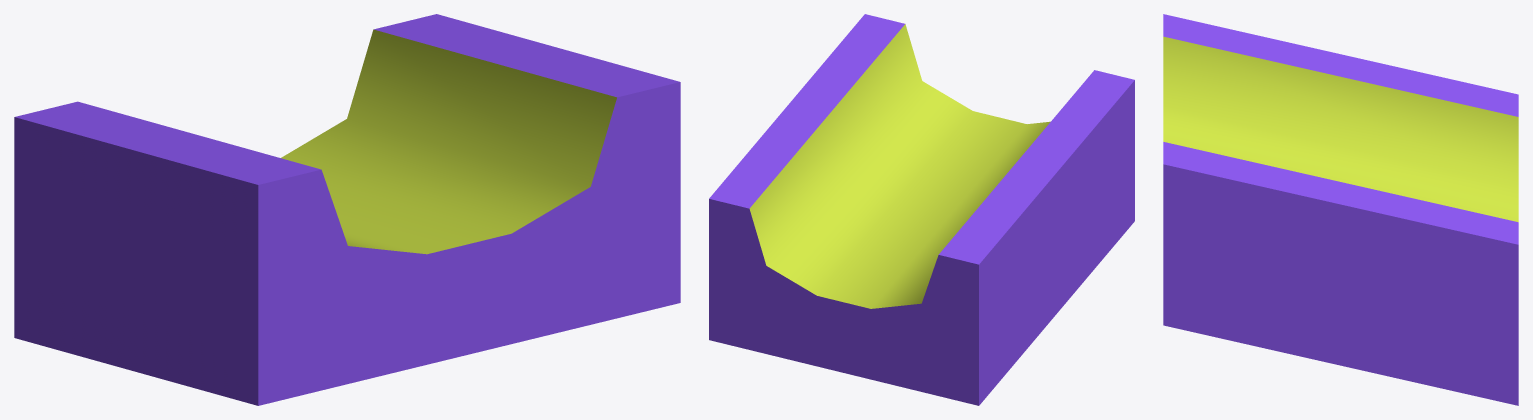
File: slant_A.fbx
The picture shows the model from 3 angles, left to right: view 1: azimuth 30°, elevation 25°; view 2: azimuth 150°, elevation 25°; view 3: azimuth 270°, elevation 25°; orthographic projection. The views are drawn at different scales.
Visible parts, largest first — view 1: slant_A; view 2: slant_A; view 3: slant_A.
Boxes of the visible parts, x1,y1,x2,y2 form: slant_A: (14,14,680,405); slant_A: (709,14,1134,405); slant_A: (1163,14,1518,405).
Size of the model in its own units: 10 by 7.5 by 10.
